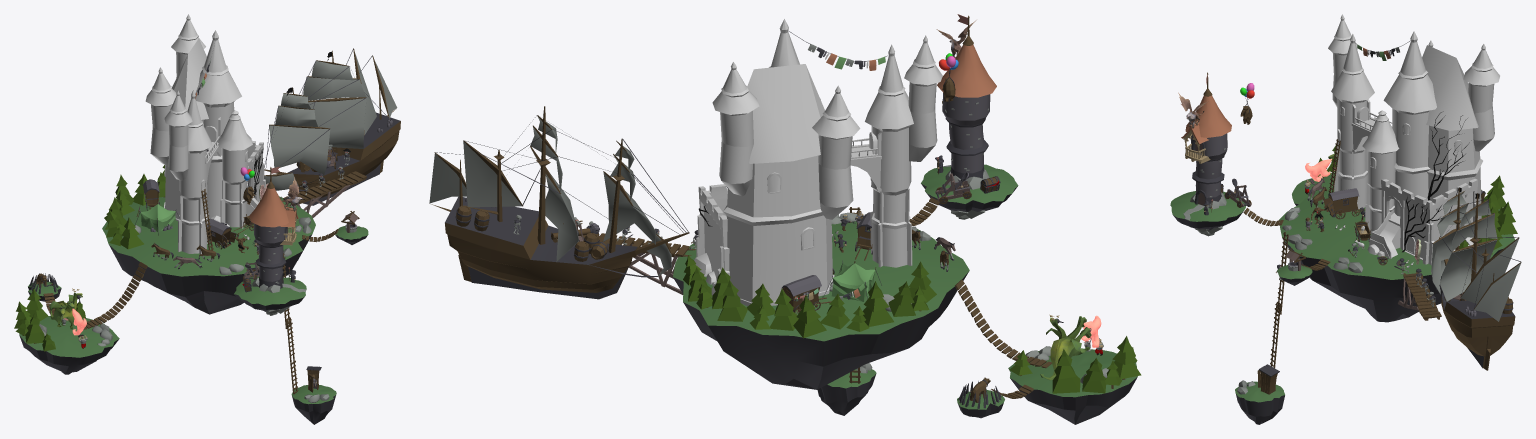
The picture shows the model from 3 angles, left to right: view 1: azimuth 30°, elevation 25°; view 2: azimuth 150°, elevation 25°; view 3: azimuth 270°, elevation 25°; orthographic projection. The views are drawn at different scales.
Visible parts, largest first — view 1: castle, ship, Circle.023, Circle.014, Circle, Cube.013, Circle.009, Cube.009, tent_proxy, Circle.021, Cube.108, prison_proxy (+5 smaller); view 2: castle, ship, Circle.023, Circle.014, Circle, Circle.009, Cube.013, tent_proxy, Cube.108, Circle.021, Cube.009, waggon_proxy (+8 smaller); view 3: castle, ship, Circle.023, Circle, Circle.014, Cube.013, prison_proxy, Circle.021, Plane.004, Cube.027, Cube.115, Circle.001 (+4 smaller).
Boxes of the visible parts, left/top/right/bottom form: castle: left=145, top=14, right=265, bottom=254; ship: left=264, top=48, right=400, bottom=205; Circle.023: left=19, top=196, right=368, bottom=404; Circle.014: left=109, top=234, right=311, bottom=314; Circle: left=249, top=167, right=306, bottom=292; Cube.013: left=282, top=171, right=366, bottom=217; Circle.009: left=19, top=335, right=118, bottom=374; Cube.009: left=84, top=262, right=147, bottom=329; tent_proxy: left=134, top=202, right=179, bottom=235; Circle.021: left=292, top=395, right=335, bottom=424; Cube.108: left=49, top=292, right=82, bottom=329; prison_proxy: left=207, top=218, right=236, bottom=249; castle: left=694, top=19, right=942, bottom=306; ship: left=429, top=106, right=689, bottom=299; Circle.023: left=673, top=164, right=1137, bottom=415; Circle.014: left=673, top=272, right=968, bottom=389; Circle: left=937, top=15, right=996, bottom=179; Circle.009: left=1009, top=370, right=1137, bottom=424; Cube.013: left=583, top=233, right=696, bottom=294; tent_proxy: left=822, top=260, right=881, bottom=301; Cube.108: left=1040, top=316, right=1091, bottom=380; Circle.021: left=817, top=374, right=875, bottom=415; Cube.009: left=955, top=279, right=1051, bottom=368; waggon_proxy: left=782, top=275, right=831, bottom=314; castle: left=1328, top=14, right=1499, bottom=265; ship: left=1431, top=187, right=1521, bottom=370; Circle.023: left=1170, top=172, right=1514, bottom=402; Circle: left=1181, top=72, right=1231, bottom=220; Circle.014: left=1283, top=239, right=1502, bottom=322; Cube.013: left=1398, top=272, right=1441, bottom=320; prison_proxy: left=1323, top=188, right=1365, bottom=219; Circle.021: left=1236, top=394, right=1284, bottom=424; Plane.004: left=1427, top=111, right=1471, bottom=200; Cube.027: left=1257, top=364, right=1279, bottom=394; Cube.115: left=1497, top=201, right=1517, bottom=234; Circle.001: left=1173, top=211, right=1243, bottom=230.
Size of the model in its own units: 70.58 by 52.86 by 44.33.
